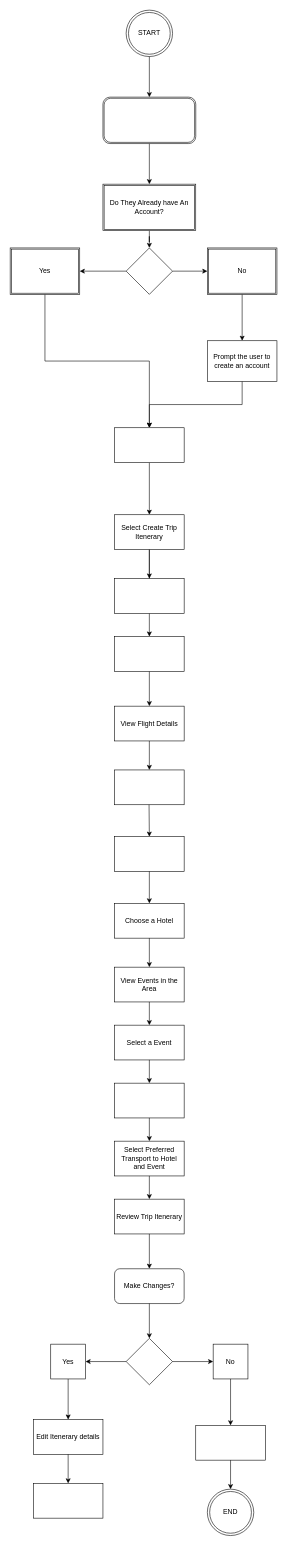
This 287x1546 diagram has some shape labels left out. The box of each missing label's shape, as (x1, y1, x2, y2) in pixels:
Choose Flights: (114, 636, 184, 671)
Enter Destination & Travel Dates: (114, 578, 184, 613)
Log in: (114, 427, 184, 463)
Open Travel Planner Software: (102, 97, 196, 144)
Save Itenerary: (195, 1425, 265, 1460)
Search For Hotels: (114, 769, 184, 805)
Sort Hotels by Price: (114, 836, 184, 871)
Start Again Back to Choose Flights: (33, 1483, 103, 1518)
View Transportation Methods in the Area: (114, 1083, 184, 1118)
